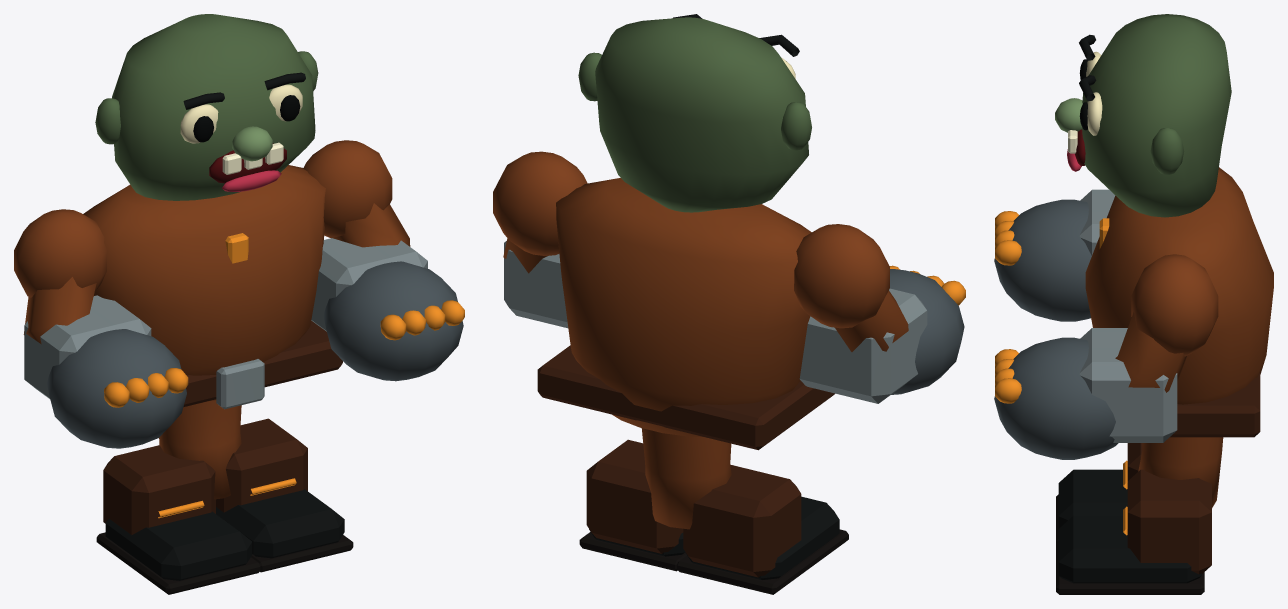
File: bruiser.glb
3 views of the same model, side by side, from view 1: azimuth 30°, elevation 25°; view 2: azimuth 150°, elevation 25°; view 3: azimuth 270°, elevation 25° (orthographic). The views are drawn at different scales.
Parts seen in each view (by area): view 1: Arms, Body, Head, LegL, LegR; view 2: Body, Head, Arms, LegL, LegR; view 3: Arms, Head, Body, LegR, LegL.
Part boxes in pixels (box(x1,y1,x2,y2)): Arms: box(14, 140, 464, 448); Body: box(83, 165, 342, 409); Head: box(95, 14, 318, 200); LegL: box(96, 400, 260, 594); LegR: box(164, 418, 353, 572); Body: box(537, 178, 834, 450); Head: box(578, 14, 811, 212); Arms: box(493, 151, 965, 403); LegL: box(645, 429, 848, 594); LegR: box(579, 428, 710, 571); Arms: box(994, 189, 1218, 459); Head: box(1055, 14, 1231, 217); Body: box(1085, 167, 1273, 437); LegR: box(1056, 437, 1222, 594); LegL: box(1056, 437, 1223, 542).
Bounding box in the file's own units: 0.9427 × 1.16 × 0.565.
Materials: 1 (1 with a texture image).
